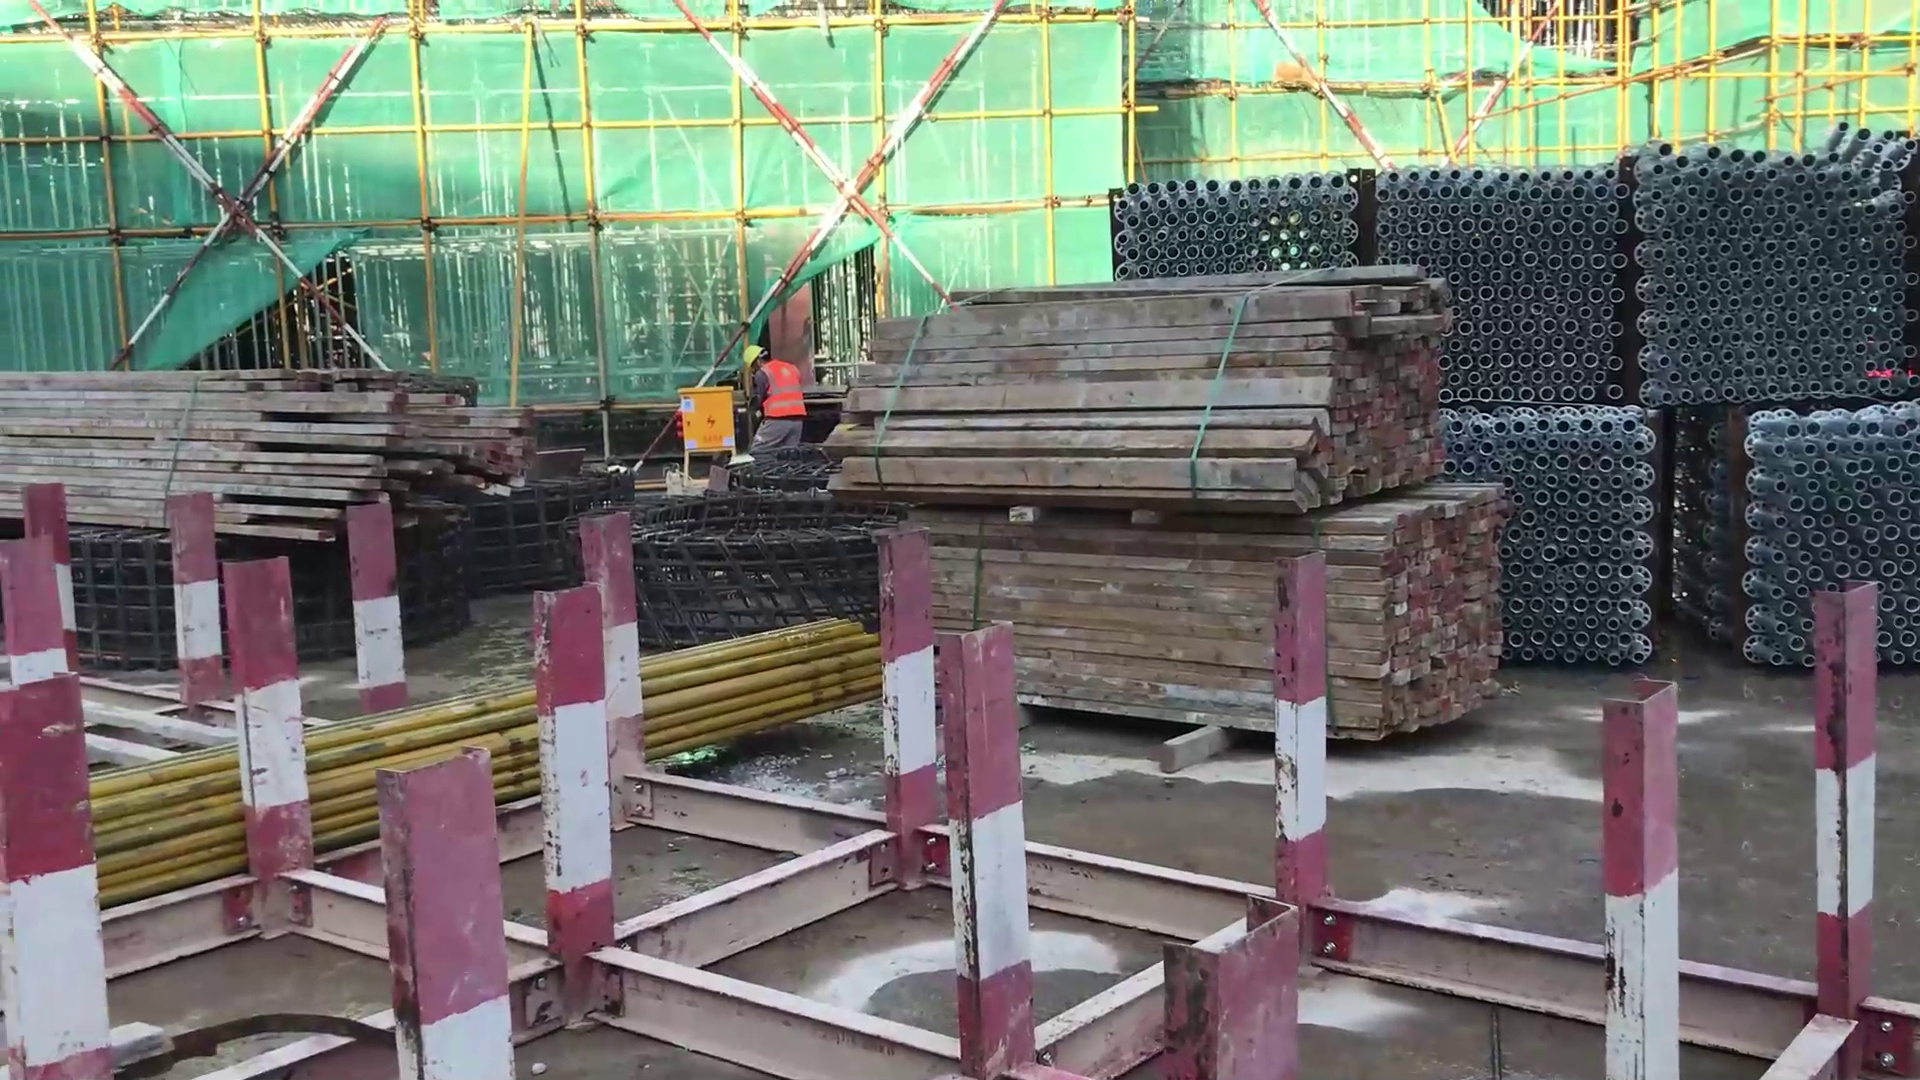ebox: (661, 370, 752, 461)
helmet: (733, 339, 793, 373)
person: (727, 341, 805, 457)
vest: (759, 357, 806, 429)
wood: (811, 249, 1490, 727), (5, 353, 575, 522)
